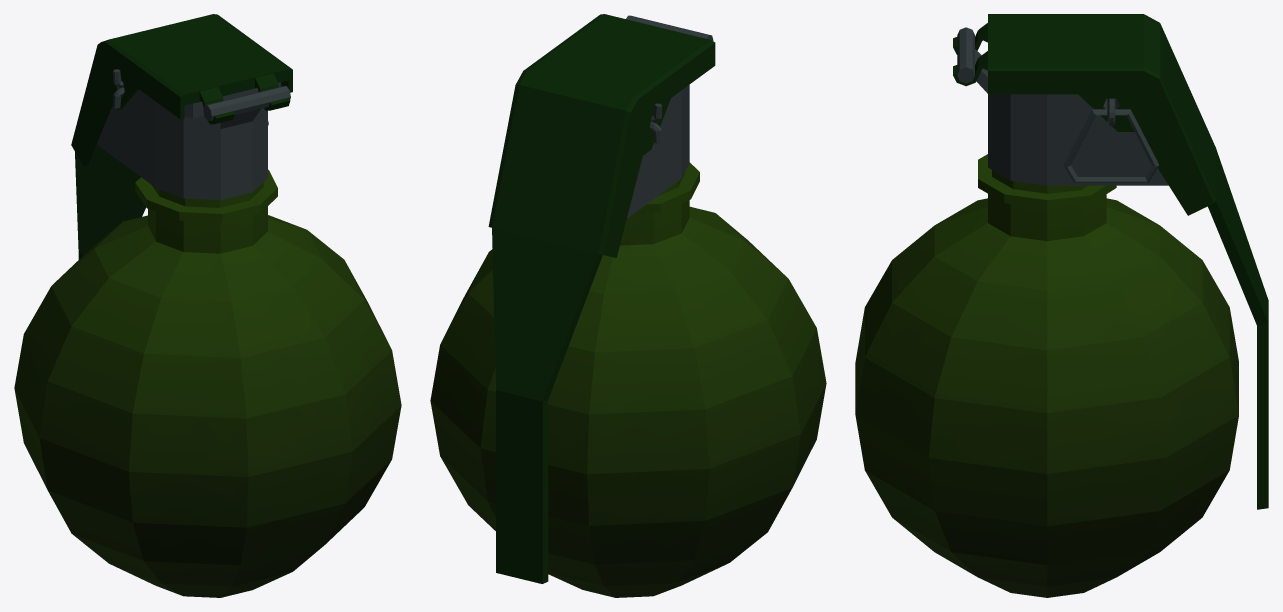
The model's file is M67V1_Rigged.fbx.
3 renders of one model, left to right at view 1: azimuth 30°, elevation 25°; view 2: azimuth 150°, elevation 25°; view 3: azimuth 270°, elevation 25°, orthographic. The views are drawn at different scales.
Visible parts, largest first — view 1: Grenade_M67V1, Grenade_M67V1_SaftyLever; view 2: Grenade_M67V1, Grenade_M67V1_SaftyLever; view 3: Grenade_M67V1, Grenade_M67V1_SaftyLever, Grenade_M67V1_SaftyPin_Ring.
Boxes of the visible parts, bbox=[...] form: Grenade_M67V1: bbox=[14, 82, 401, 597]; Grenade_M67V1_SaftyLever: bbox=[71, 14, 292, 259]; Grenade_M67V1: bbox=[430, 15, 826, 597]; Grenade_M67V1_SaftyLever: bbox=[488, 14, 715, 583]; Grenade_M67V1: bbox=[855, 27, 1238, 597]; Grenade_M67V1_SaftyLever: bbox=[953, 14, 1268, 509]; Grenade_M67V1_SaftyPin_Ring: bbox=[1063, 109, 1159, 182].
Bounding box in the file's own units: 9 × 13.07 × 9.22.
